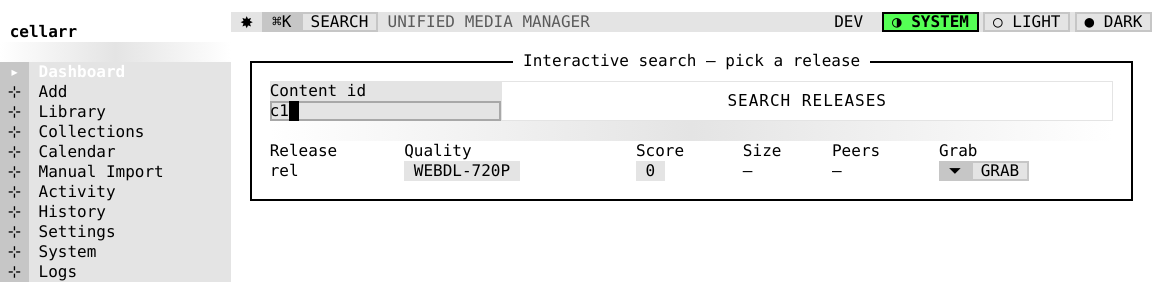
it: Interactive / manual-search screen › recovers (not stuck on grabbing) when the shim declines the grab
Click the button "⏷ Grab": [984, 171] box [939,161,1029,181]
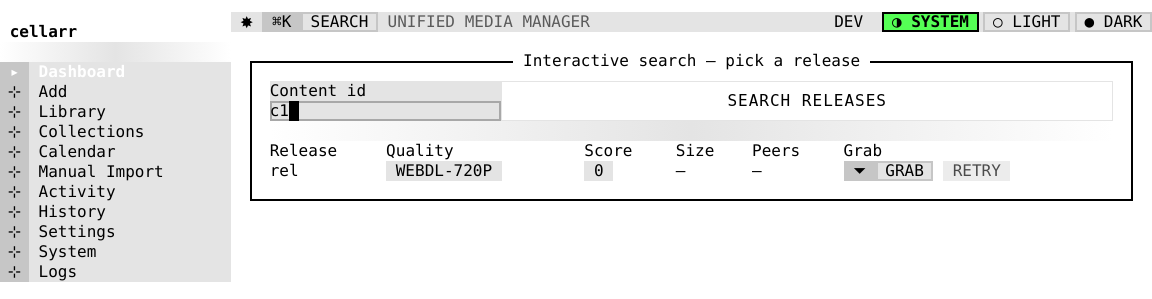
Check: the text "retry" is shown, box [943,161,1010,181]
